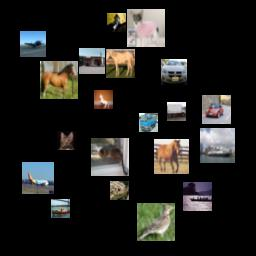airplane: (22, 162, 54, 194), (20, 31, 46, 57)
automobile: (202, 95, 231, 124), (161, 59, 187, 85)
bird: (137, 203, 175, 241), (107, 13, 126, 32)
cat: (91, 138, 129, 176), (57, 131, 76, 150)
dog: (127, 9, 165, 47)
frog: (110, 181, 129, 200)
ship: (200, 128, 235, 163), (183, 182, 212, 211), (51, 199, 70, 218)
truck: (79, 48, 105, 74), (167, 102, 186, 121), (139, 113, 158, 132)
